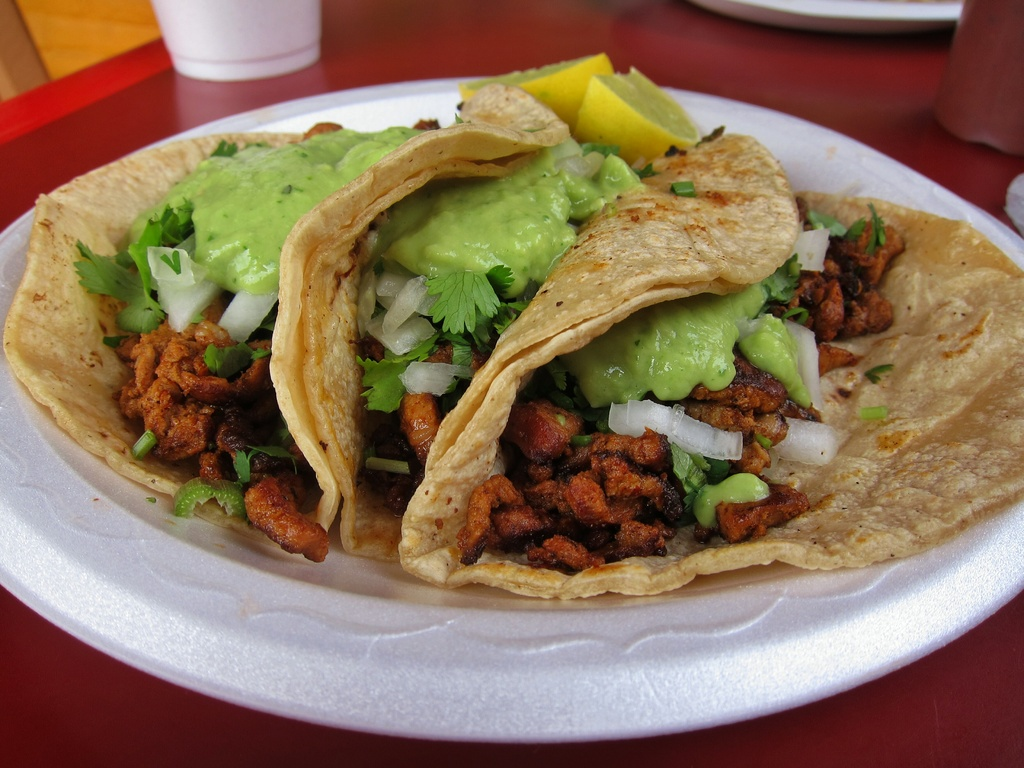taco: (396, 128, 1023, 598), (0, 83, 580, 561)
